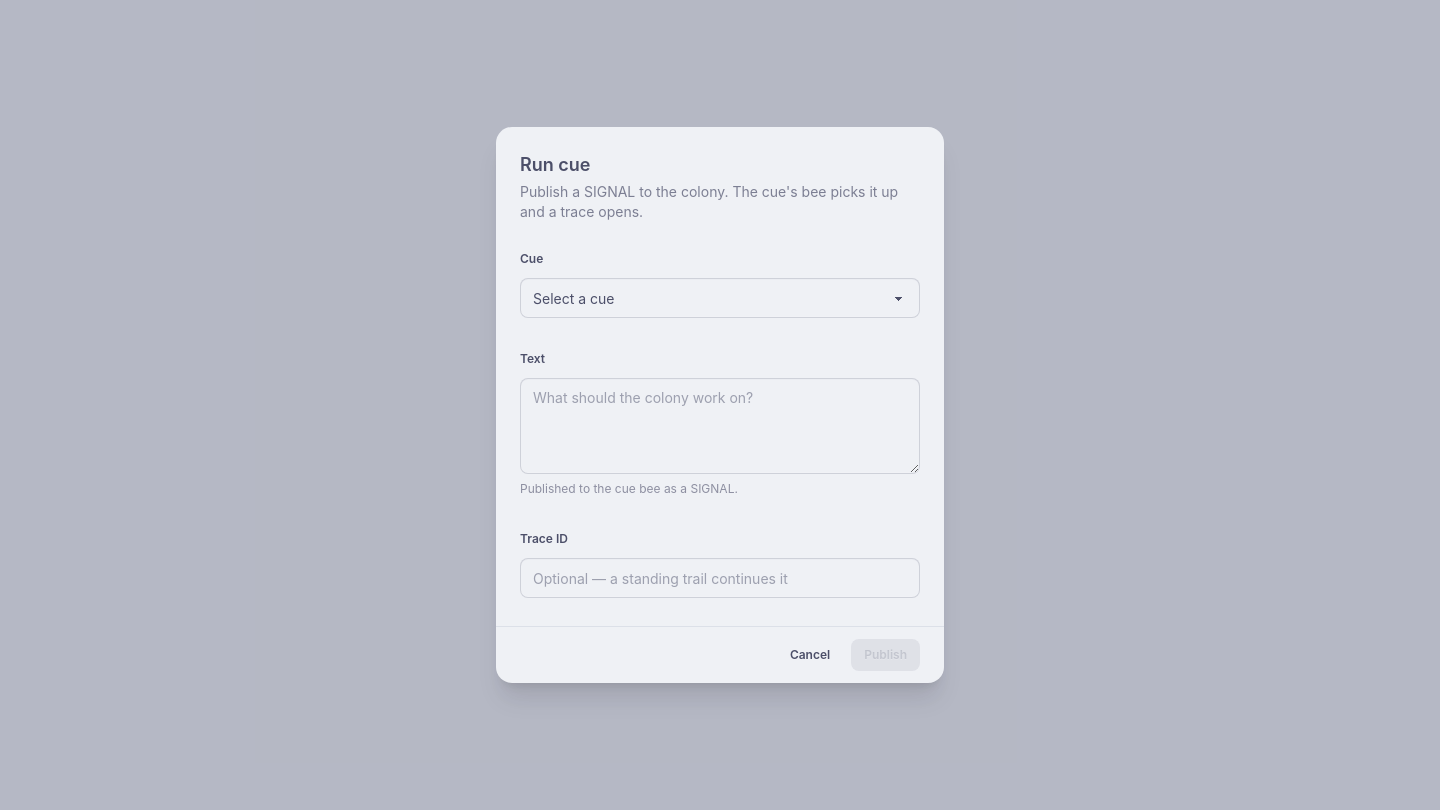
Test: CueRunModal › keeps the dialog open and shows the reason when publishing fails
Select "ship — Ship the release" in the dropdown labelled "Cue" at (720, 298), box [520,278,920,318]
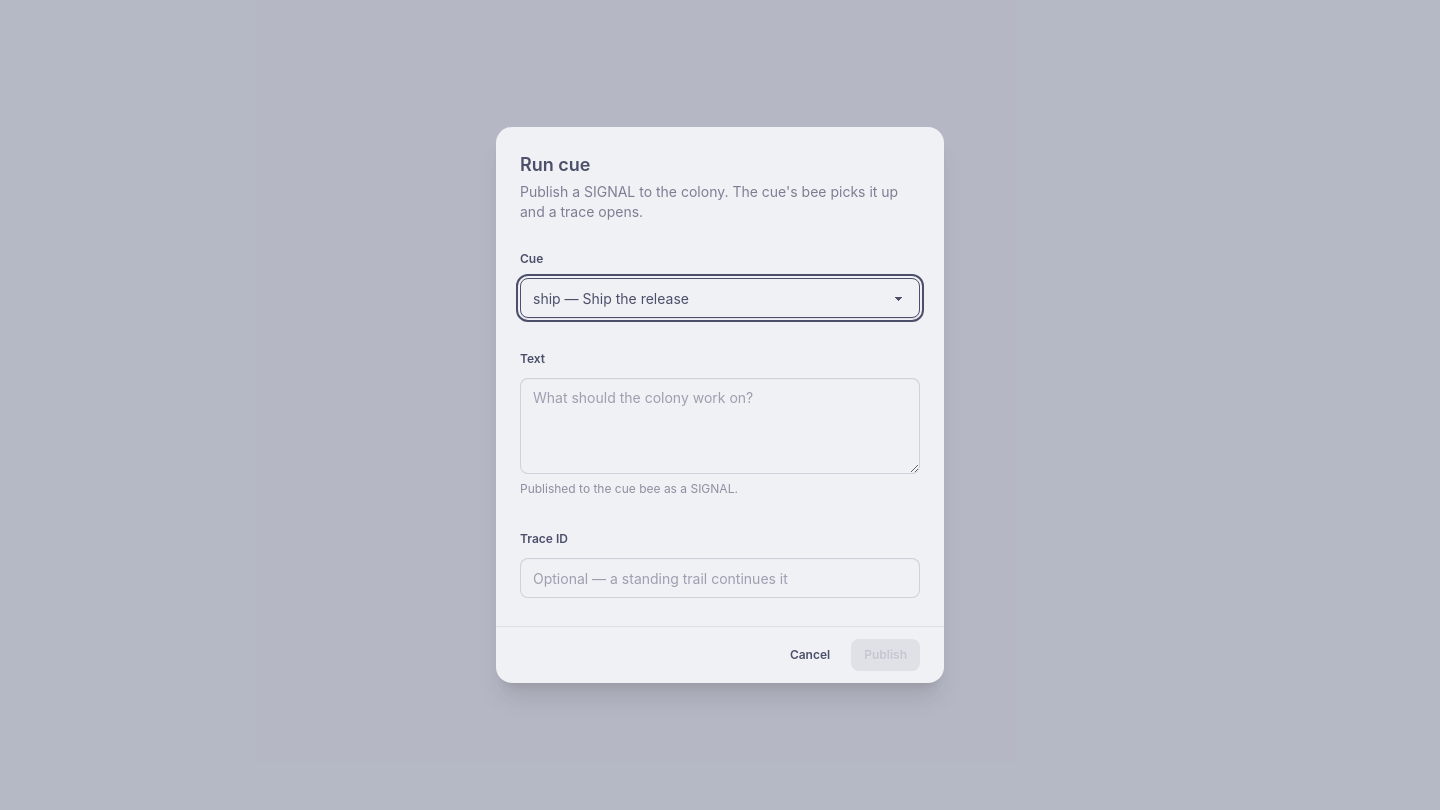
Type "Ship the release" into the text box labelled "Text" at (720, 426), box [520,378,920,474]
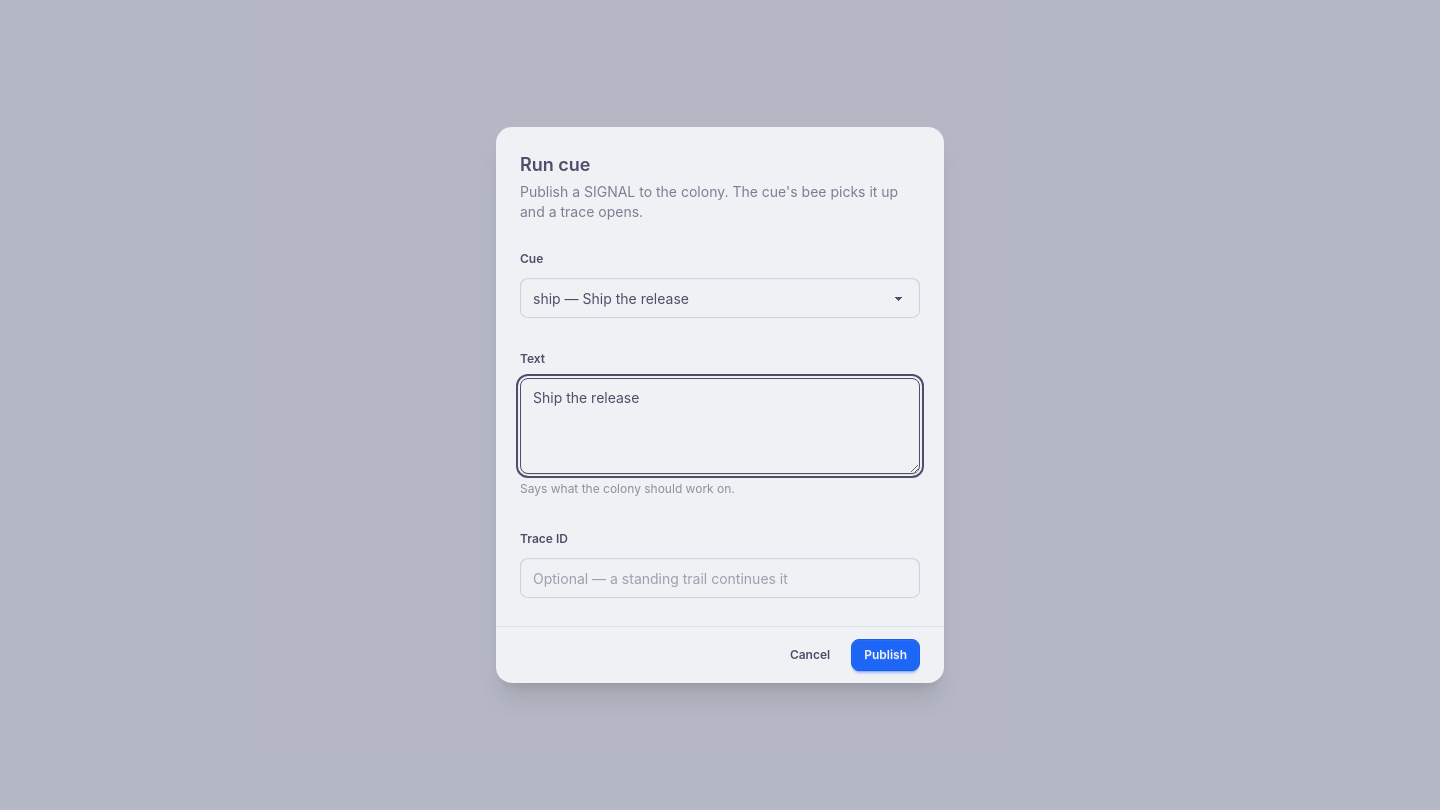
Click the button "Publish" at (886, 655), box [851,639,920,671]
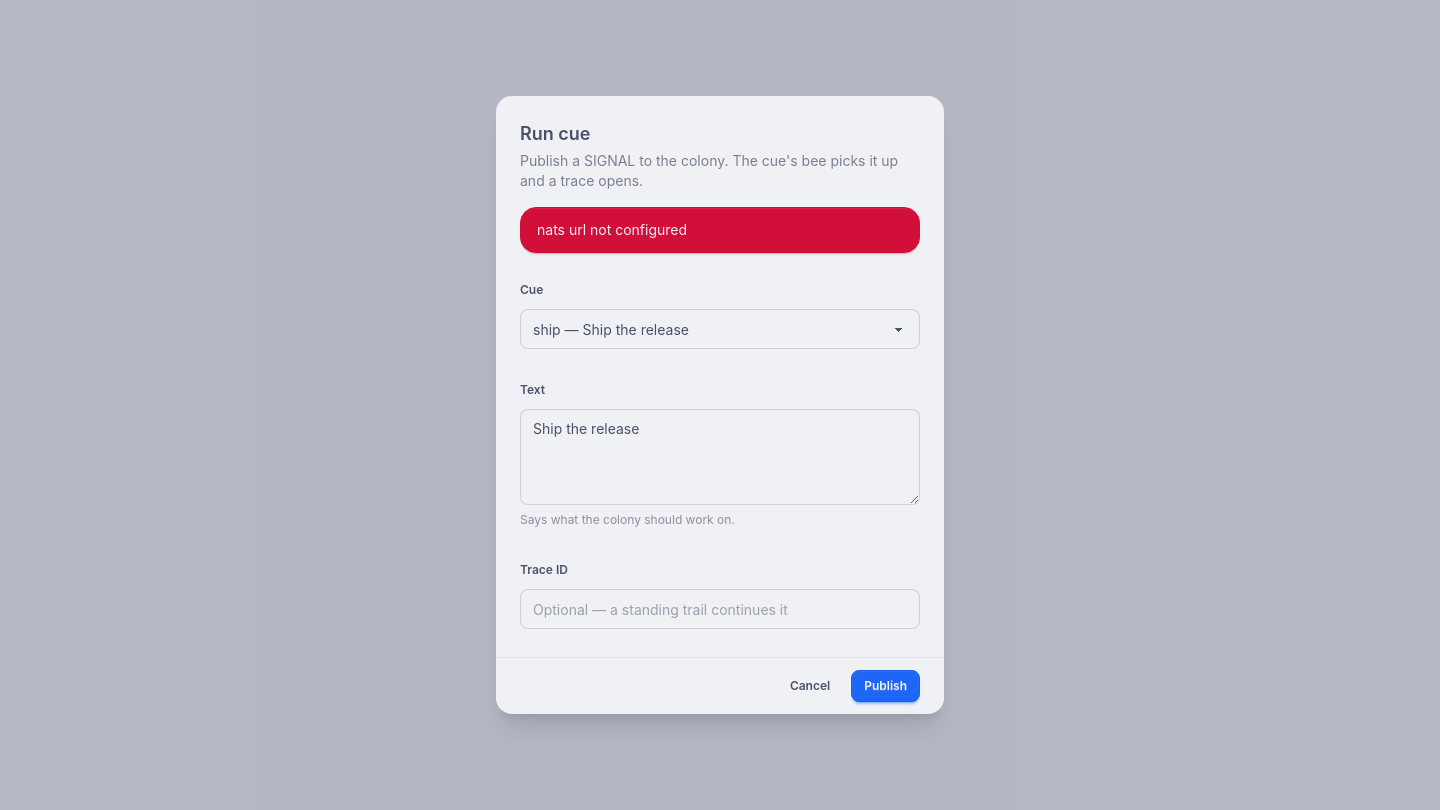
Expected: the message reads "nats url not configured", [537,221,687,238]
